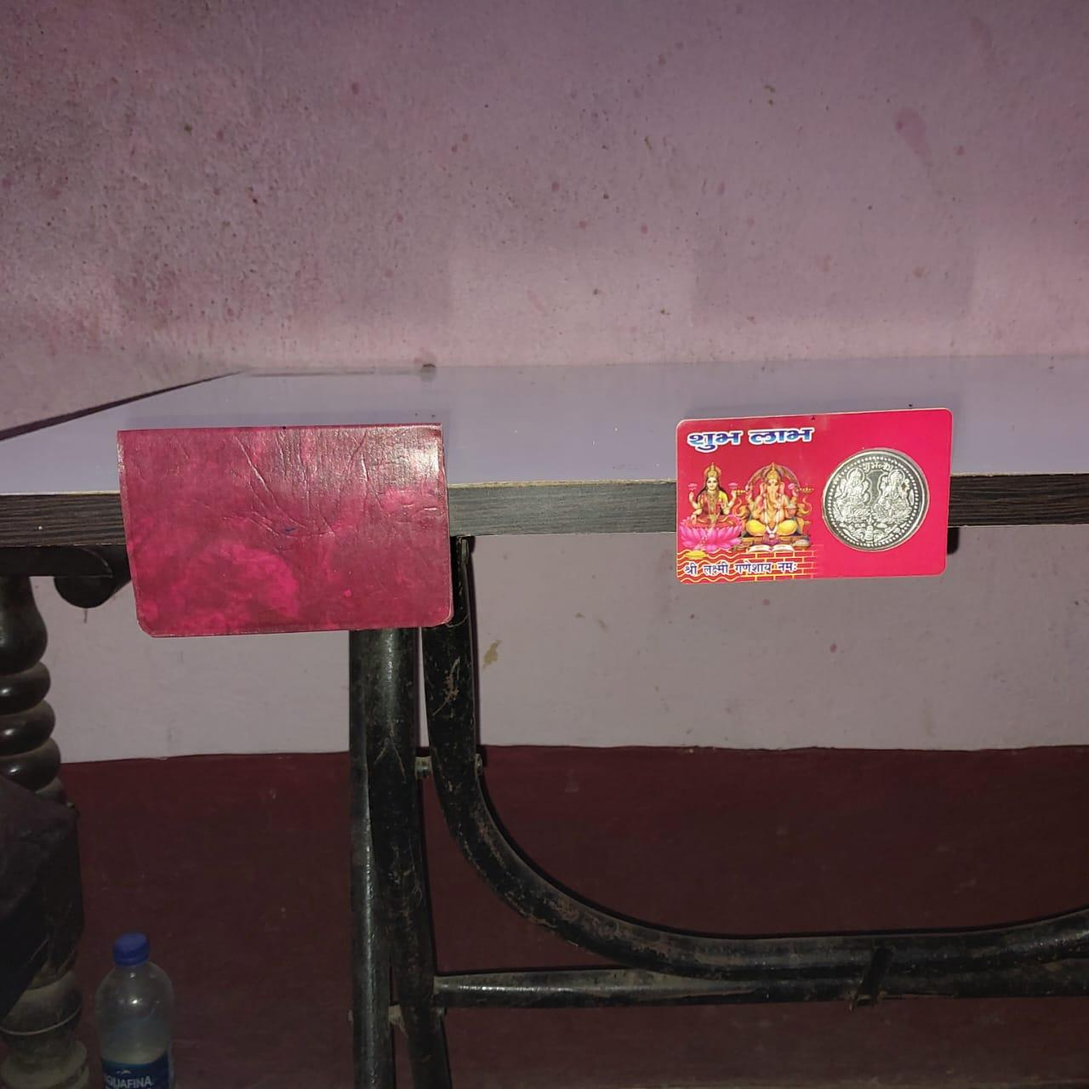blessing_card: (670, 410, 957, 581)
wallet: (119, 427, 459, 636)
